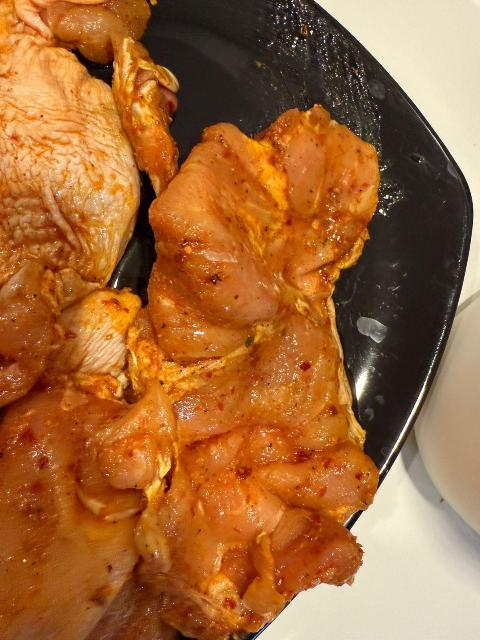Organik: (77, 117, 381, 628), (0, 379, 177, 640), (0, 3, 112, 384), (39, 4, 193, 169), (95, 377, 165, 496)
